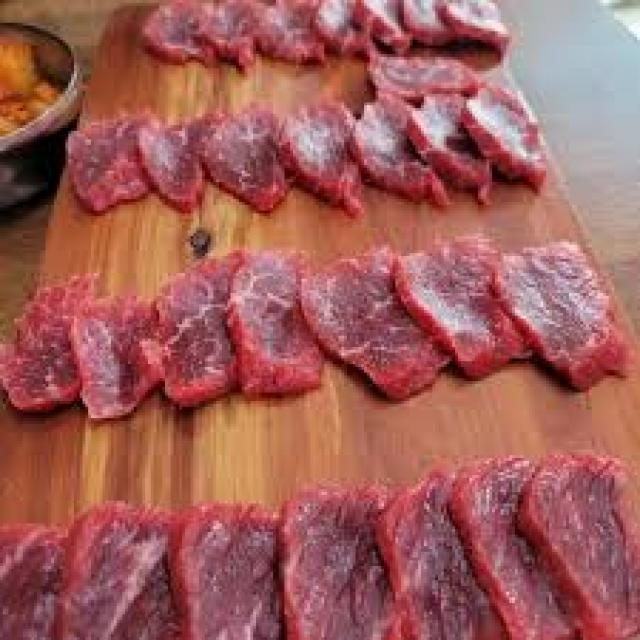Beef: (492, 236, 620, 407), (62, 273, 170, 430), (196, 86, 282, 228)
